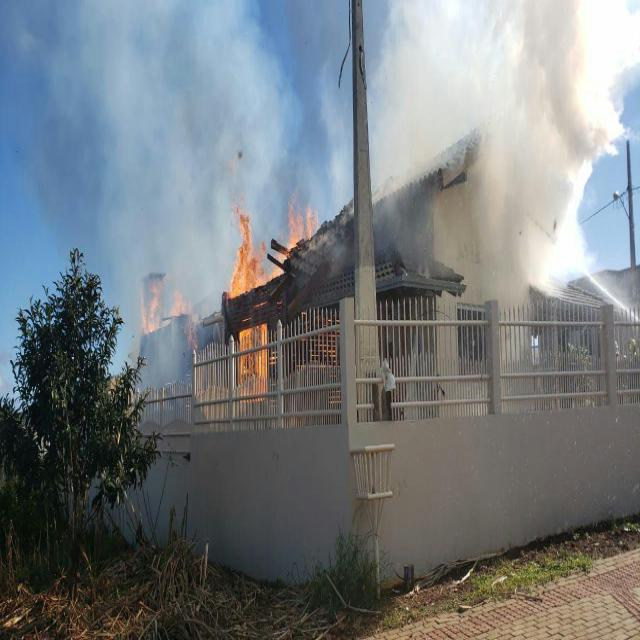Fire: (230, 206, 320, 380), (139, 264, 191, 338)
